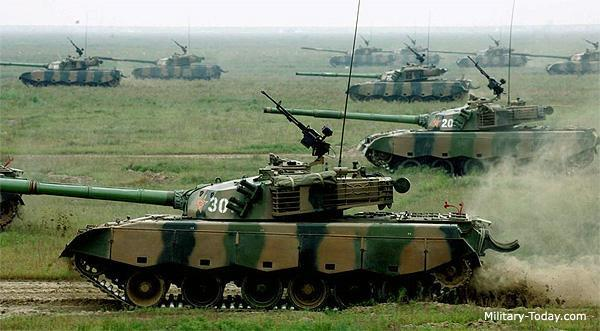tank: (0, 152, 521, 310), (263, 92, 600, 178), (294, 62, 481, 102), (0, 55, 128, 89), (92, 51, 230, 81), (510, 46, 600, 76), (428, 44, 530, 69), (300, 42, 395, 67), (373, 43, 445, 66)
